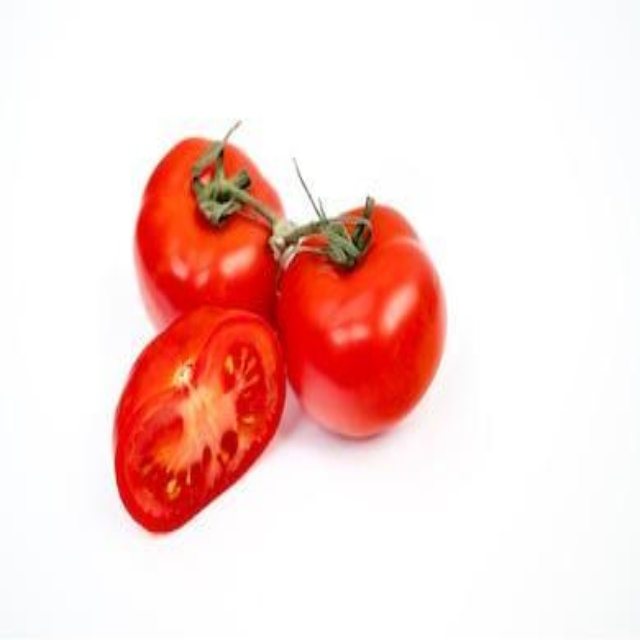tomato: (105, 307, 299, 525), (275, 211, 451, 439), (121, 151, 286, 338)
